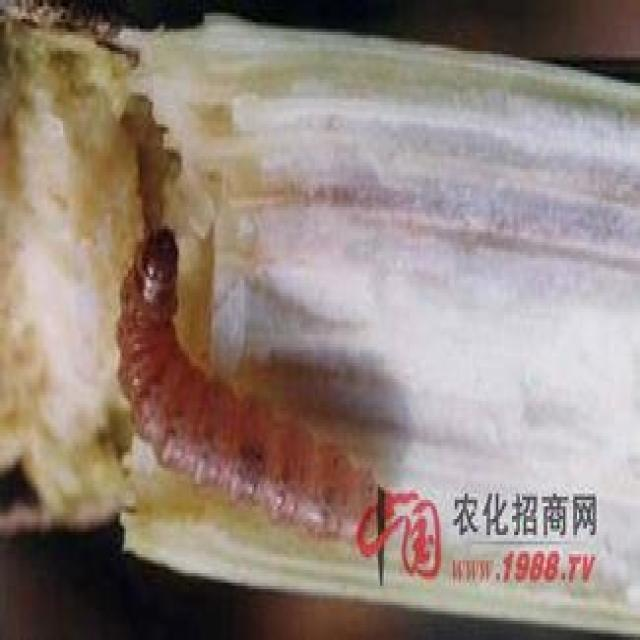peach borer: (113, 229, 397, 538)
